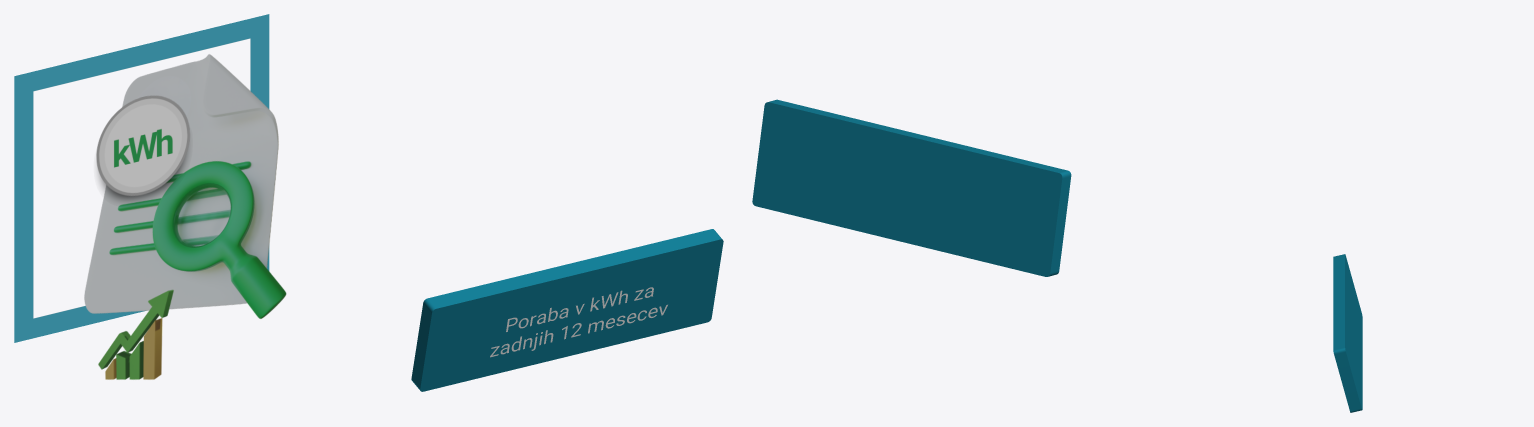
3 views of the same model, side by side, from view 1: azimuth 30°, elevation 25°; view 2: azimuth 150°, elevation 25°; view 3: azimuth 270°, elevation 25° (orthographic). The views are drawn at different scales.
Visible parts, largest first — view 1: List in lupa, Rectangle - poraba, Okvir, kWh, Graf, Poraba; view 2: Rectangle - poraba; view 3: Rectangle - poraba.
Part boxes in pixels (x1,y1,x2,y2): List in lupa: (84,54,286,318); Rectangle - poraba: (411,229,723,391); Okvir: (14,14,269,342); kWh: (96,95,190,201); Graf: (98,289,173,379); Poraba: (490,287,667,357); Rectangle - poraba: (752,99,1071,276); Rectangle - poraba: (1333,254,1362,412).
Bounding box in the file's own units: 48.05 × 23.72 × 19.93.
6 materials, 4 textured.
